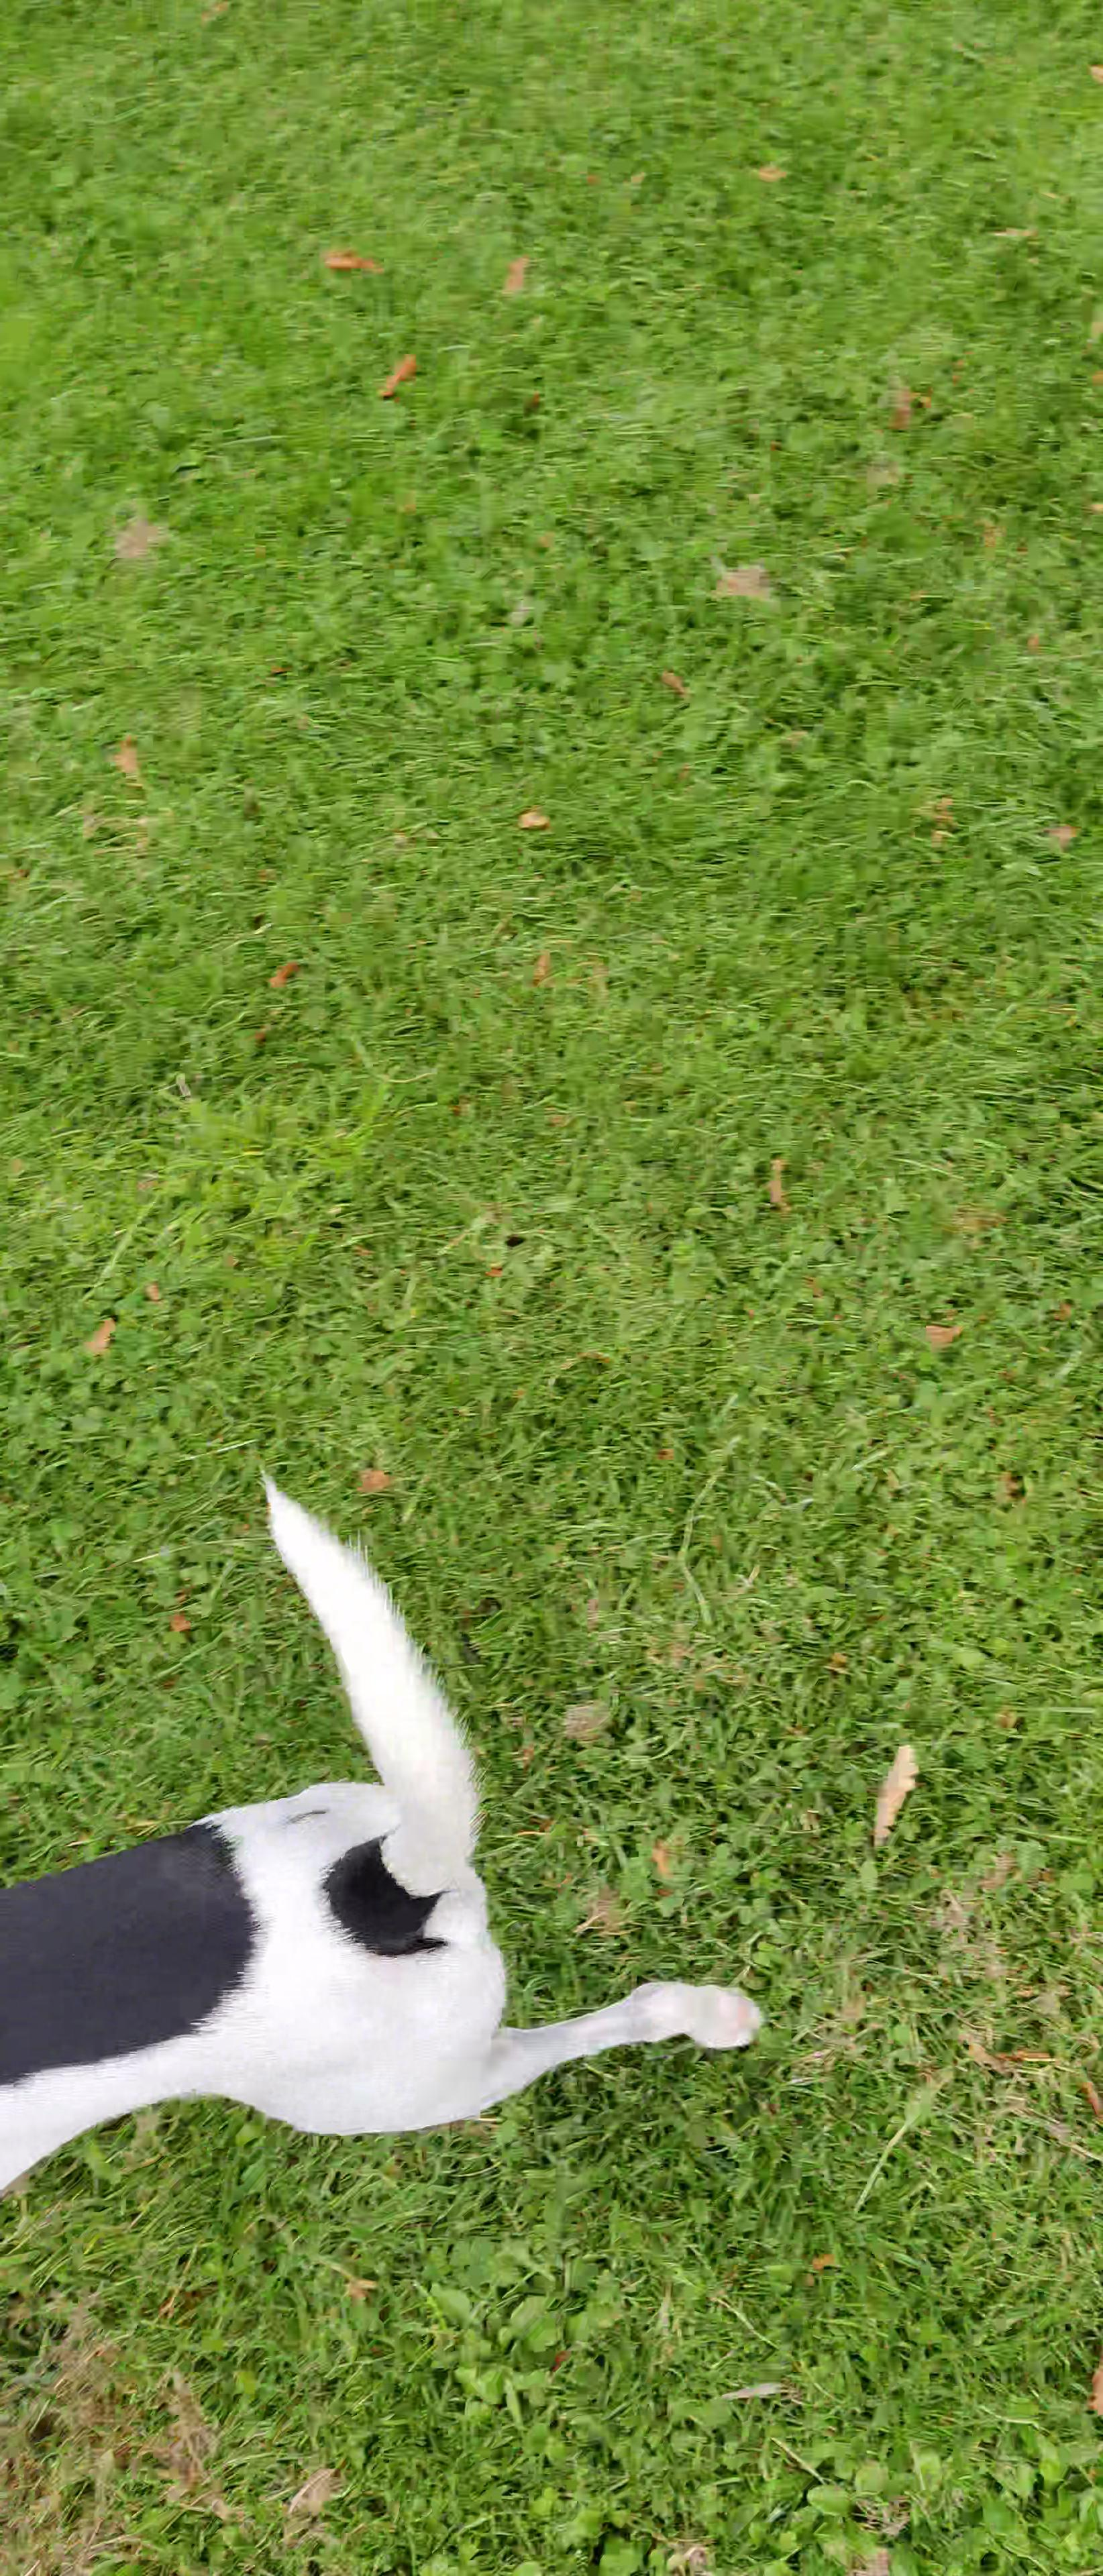Dog: (0, 1459, 842, 2238)
